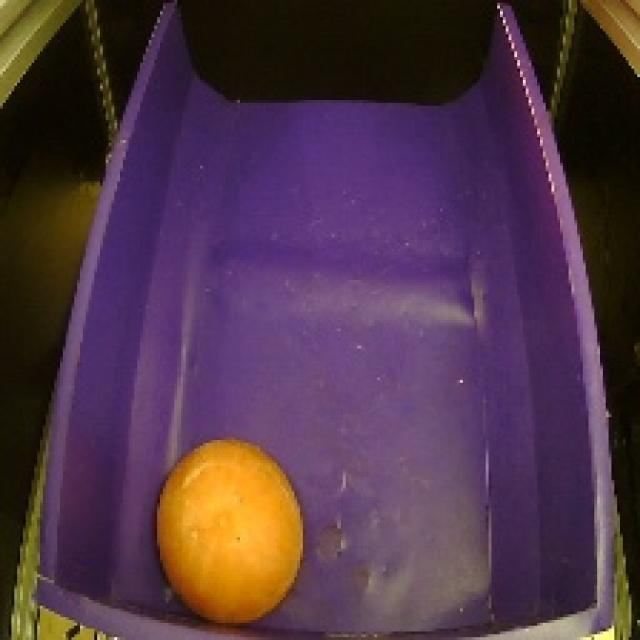carrots: (140, 434, 318, 630)
